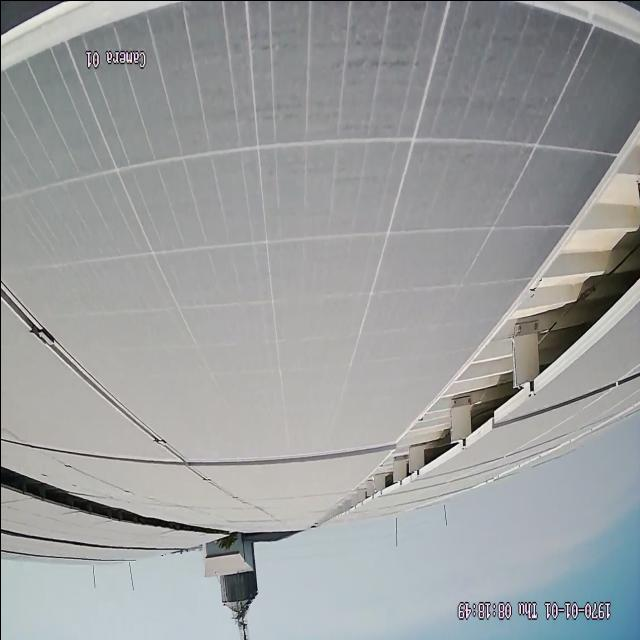interior panel: (1, 274, 379, 471), (4, 432, 156, 469)
outher panel: (330, 127, 637, 518), (0, 461, 164, 529)
